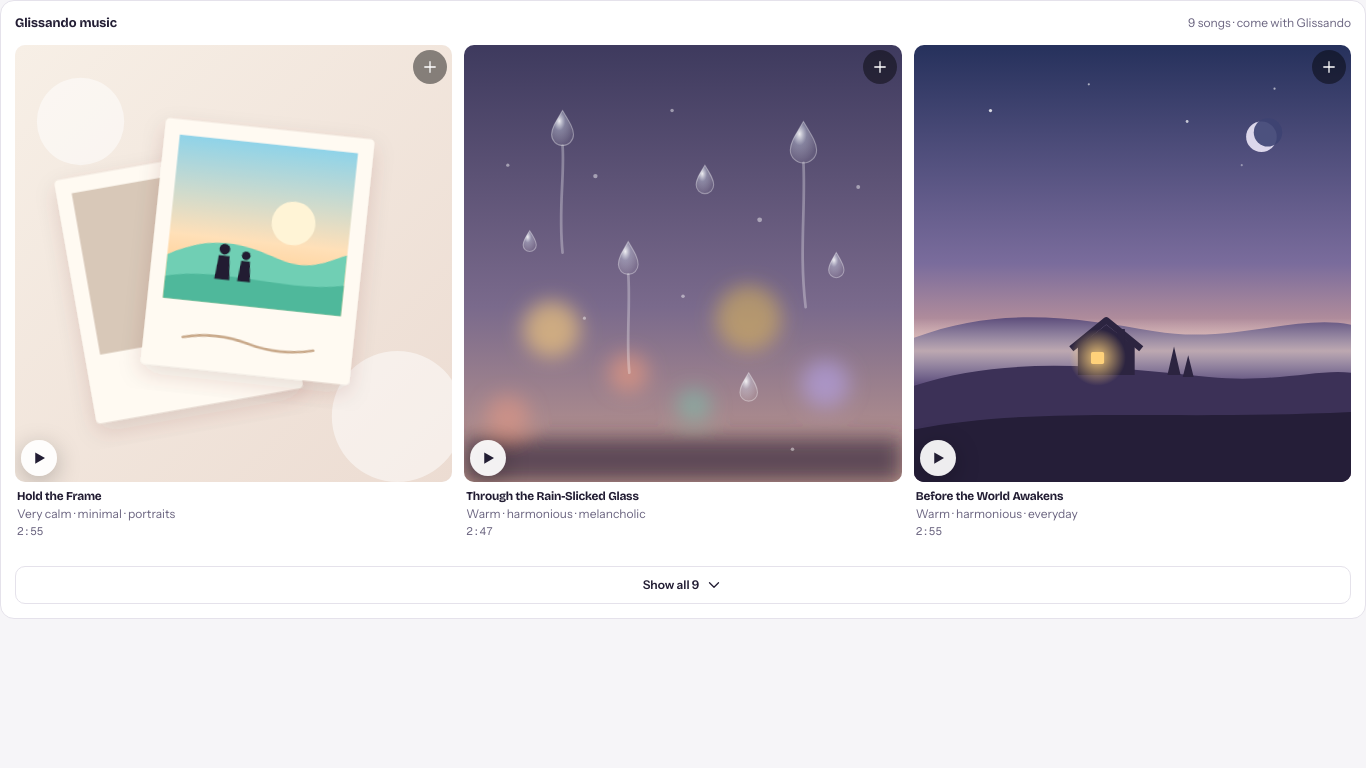
SampleMusicGrid, folded by default › unfolds the rest on Show all, flipping to Show fewer
The image size is (1366, 768).
Step 1. Click the button with class "toggle" → (683, 585), box [15,566,1351,604]
(page scrolled)
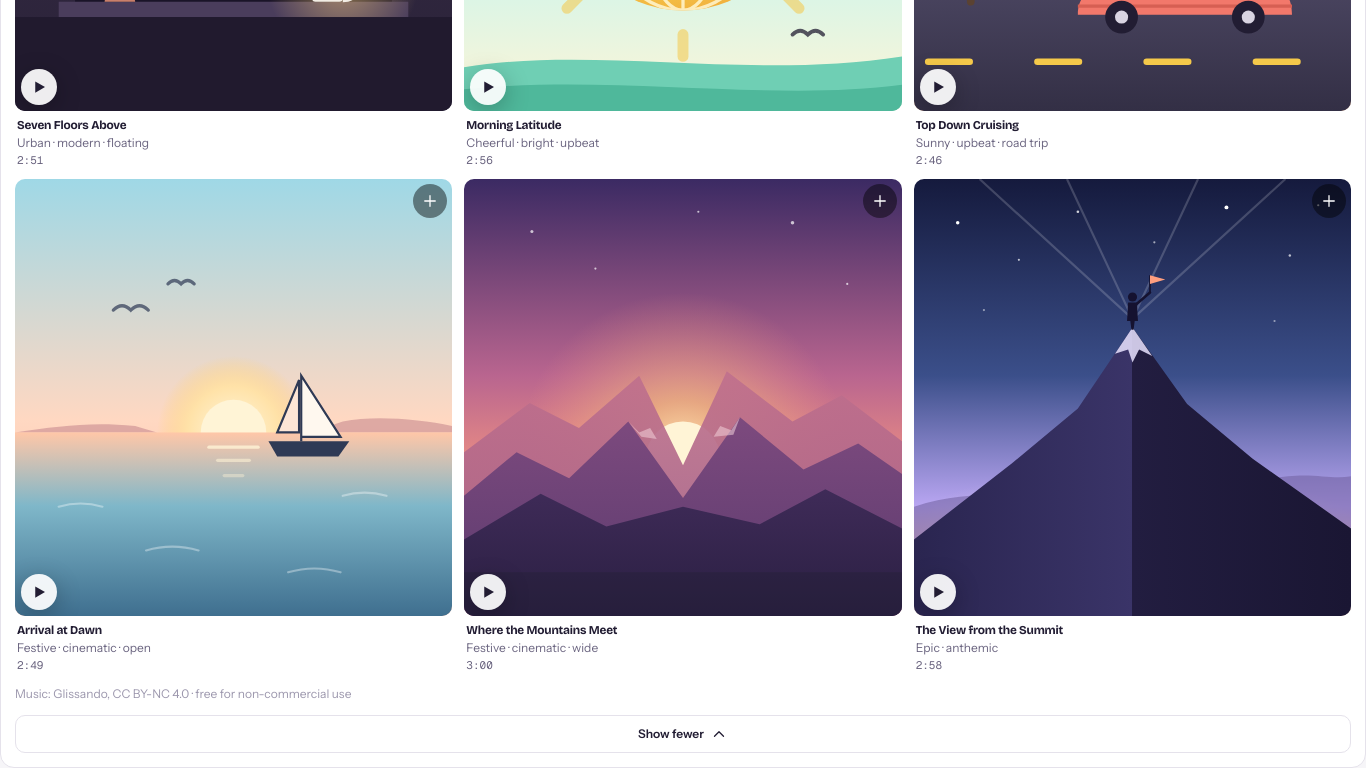
Expected: the list item "Where the Mountains Meet Festive · cinematic · wide 3:00" is shown, [464,179,902,672]
Expected: the button with class "toggle" is expanded, [15,715,1351,753]
Expected: the button with class "toggle" reads "Show fewer", [15,715,1351,753]
